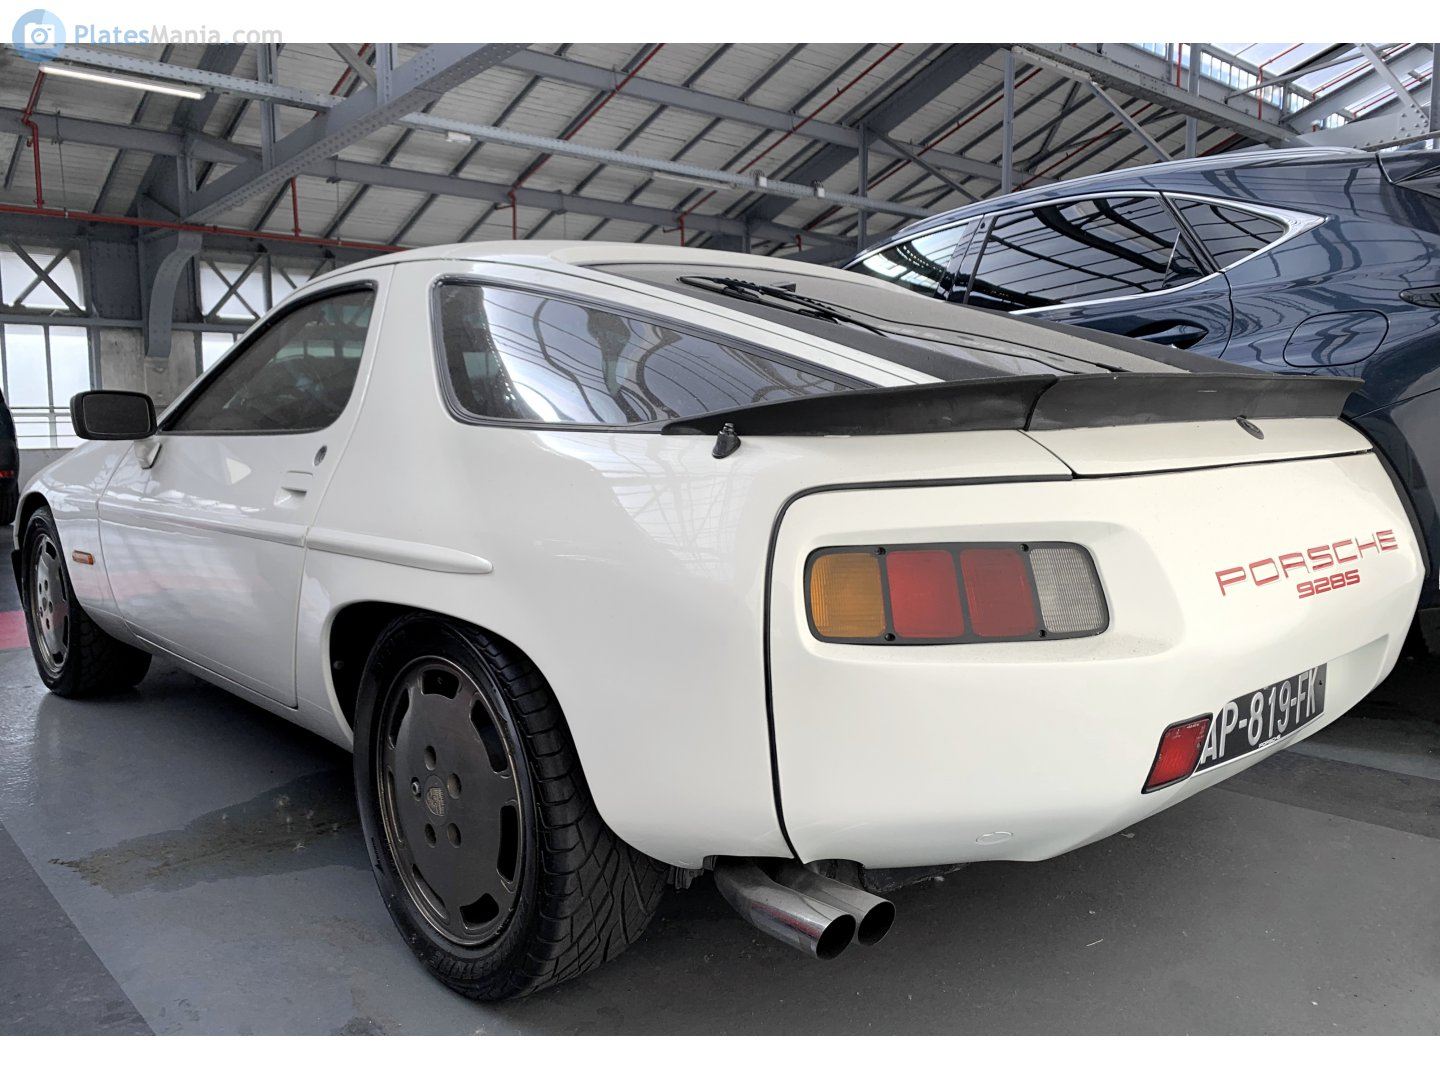licence plate: (1191, 656, 1344, 773)
